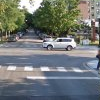crosswalk: (0, 62, 92, 73)
